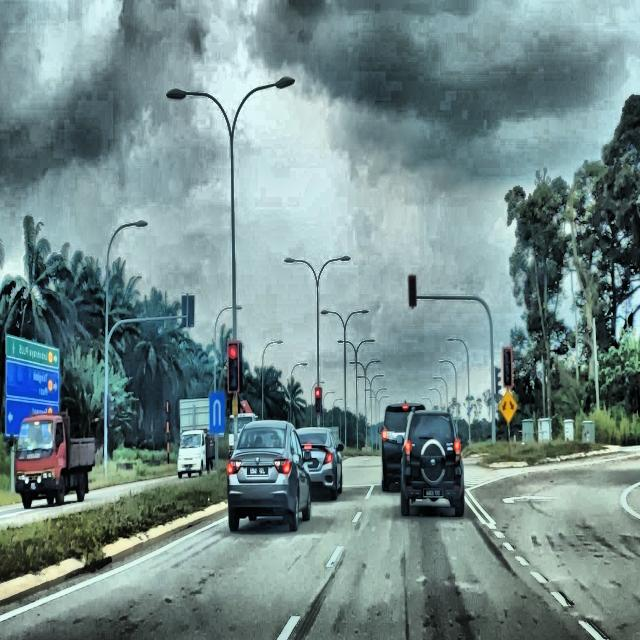red: (227, 341, 240, 392), (316, 387, 322, 412)
